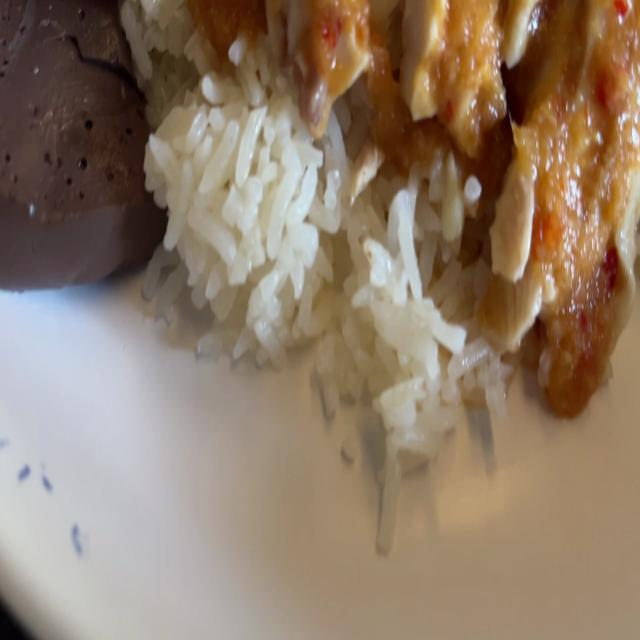chicken_rice: (201, 0, 640, 349)
noodle: (0, 0, 158, 274)
